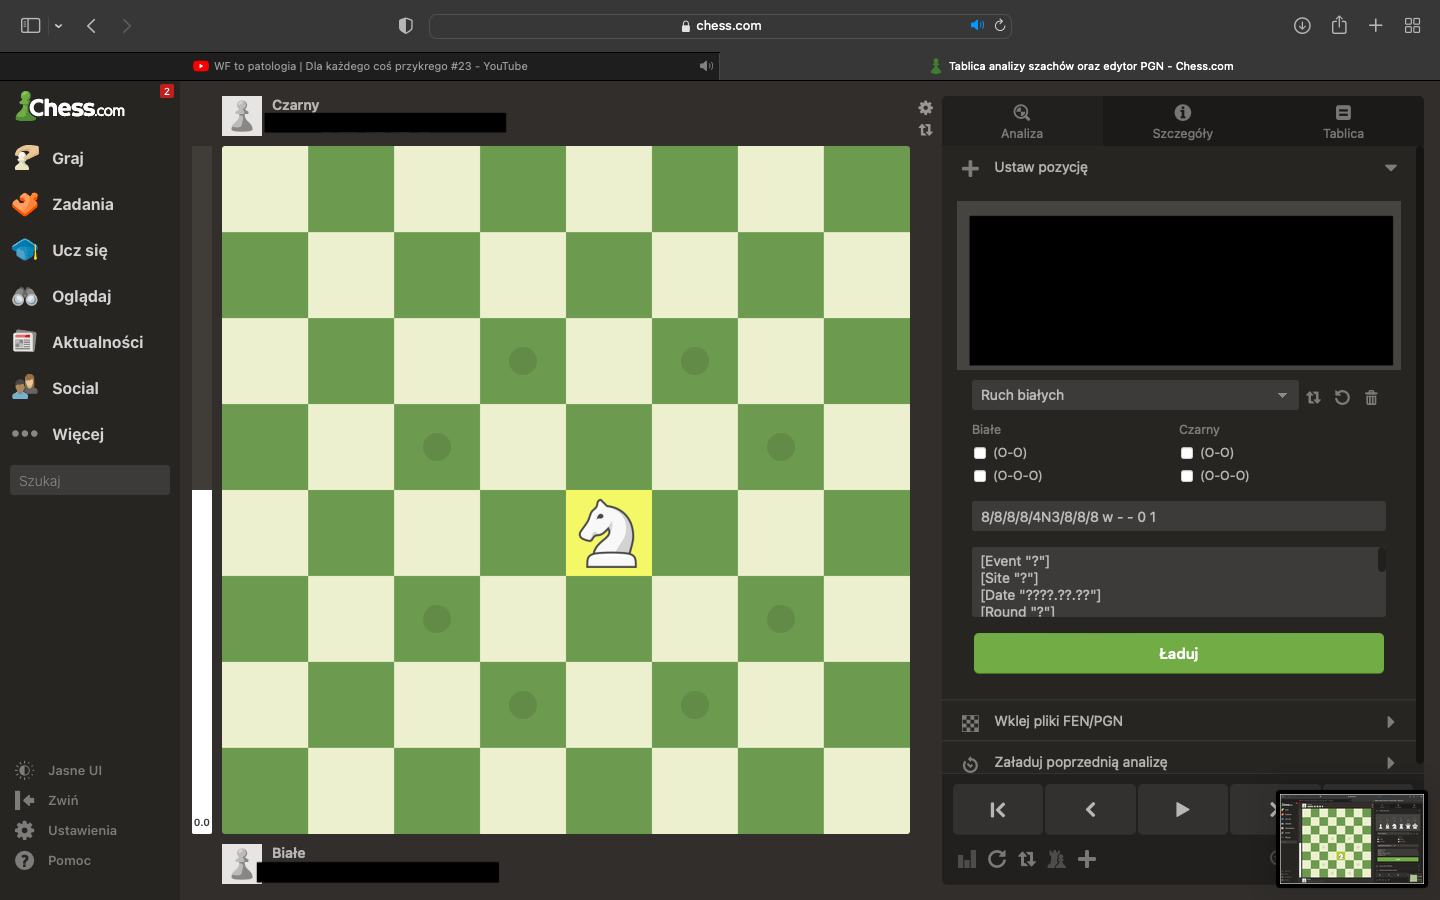white_knigth: (577, 498, 639, 569)
